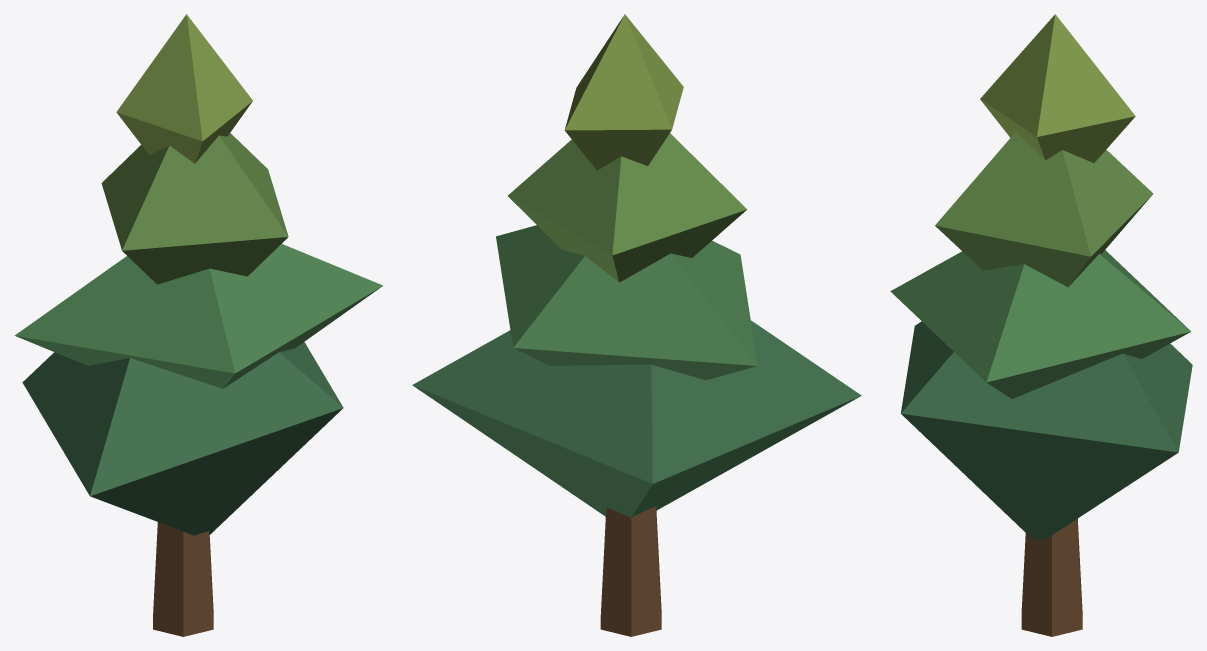
Rendered from tree-pine-canopy-6.gltf.
3 views of the same model, side by side, from view 1: azimuth 30°, elevation 25°; view 2: azimuth 150°, elevation 25°; view 3: azimuth 270°, elevation 25° (orthographic).
Parts seen in each view (by area): view 1: tree-pine-canopy-6; view 2: tree-pine-canopy-6; view 3: tree-pine-canopy-6.
Part boxes in pixels (bbox=[...]): tree-pine-canopy-6: bbox=[14, 14, 382, 636]; tree-pine-canopy-6: bbox=[412, 14, 861, 636]; tree-pine-canopy-6: bbox=[890, 14, 1192, 636].
Bounding box in the file's own units: 0.9785 × 1.72 × 0.773.
